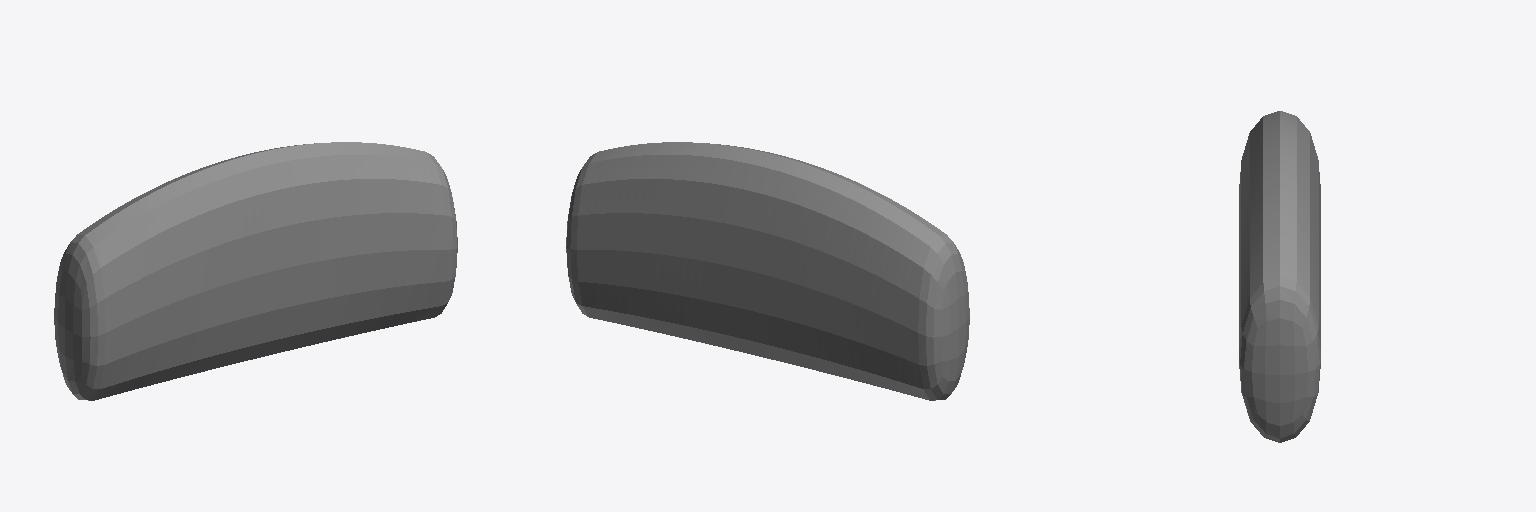
Rendered from 10472_LED_Control_Panel_v1_max2010_iteration-2.obj.
The picture shows the model from 3 angles: view 1: azimuth 30°, elevation 25°; view 2: azimuth 150°, elevation 25°; view 3: azimuth 270°, elevation 25°; orthographic projection.
Visible parts, largest first — view 1: 10472_LED_Control_Panel_v1_SG; view 2: 10472_LED_Control_Panel_v1_SG; view 3: 10472_LED_Control_Panel_v1_SG.
Part boxes in pixels (x1,y1,x2,y2): 10472_LED_Control_Panel_v1_SG: (54,142,457,400); 10472_LED_Control_Panel_v1_SG: (566,142,969,400); 10472_LED_Control_Panel_v1_SG: (1239,111,1320,442).
Bounding box in the file's own units: 75.28 × 38.6 × 14.06.